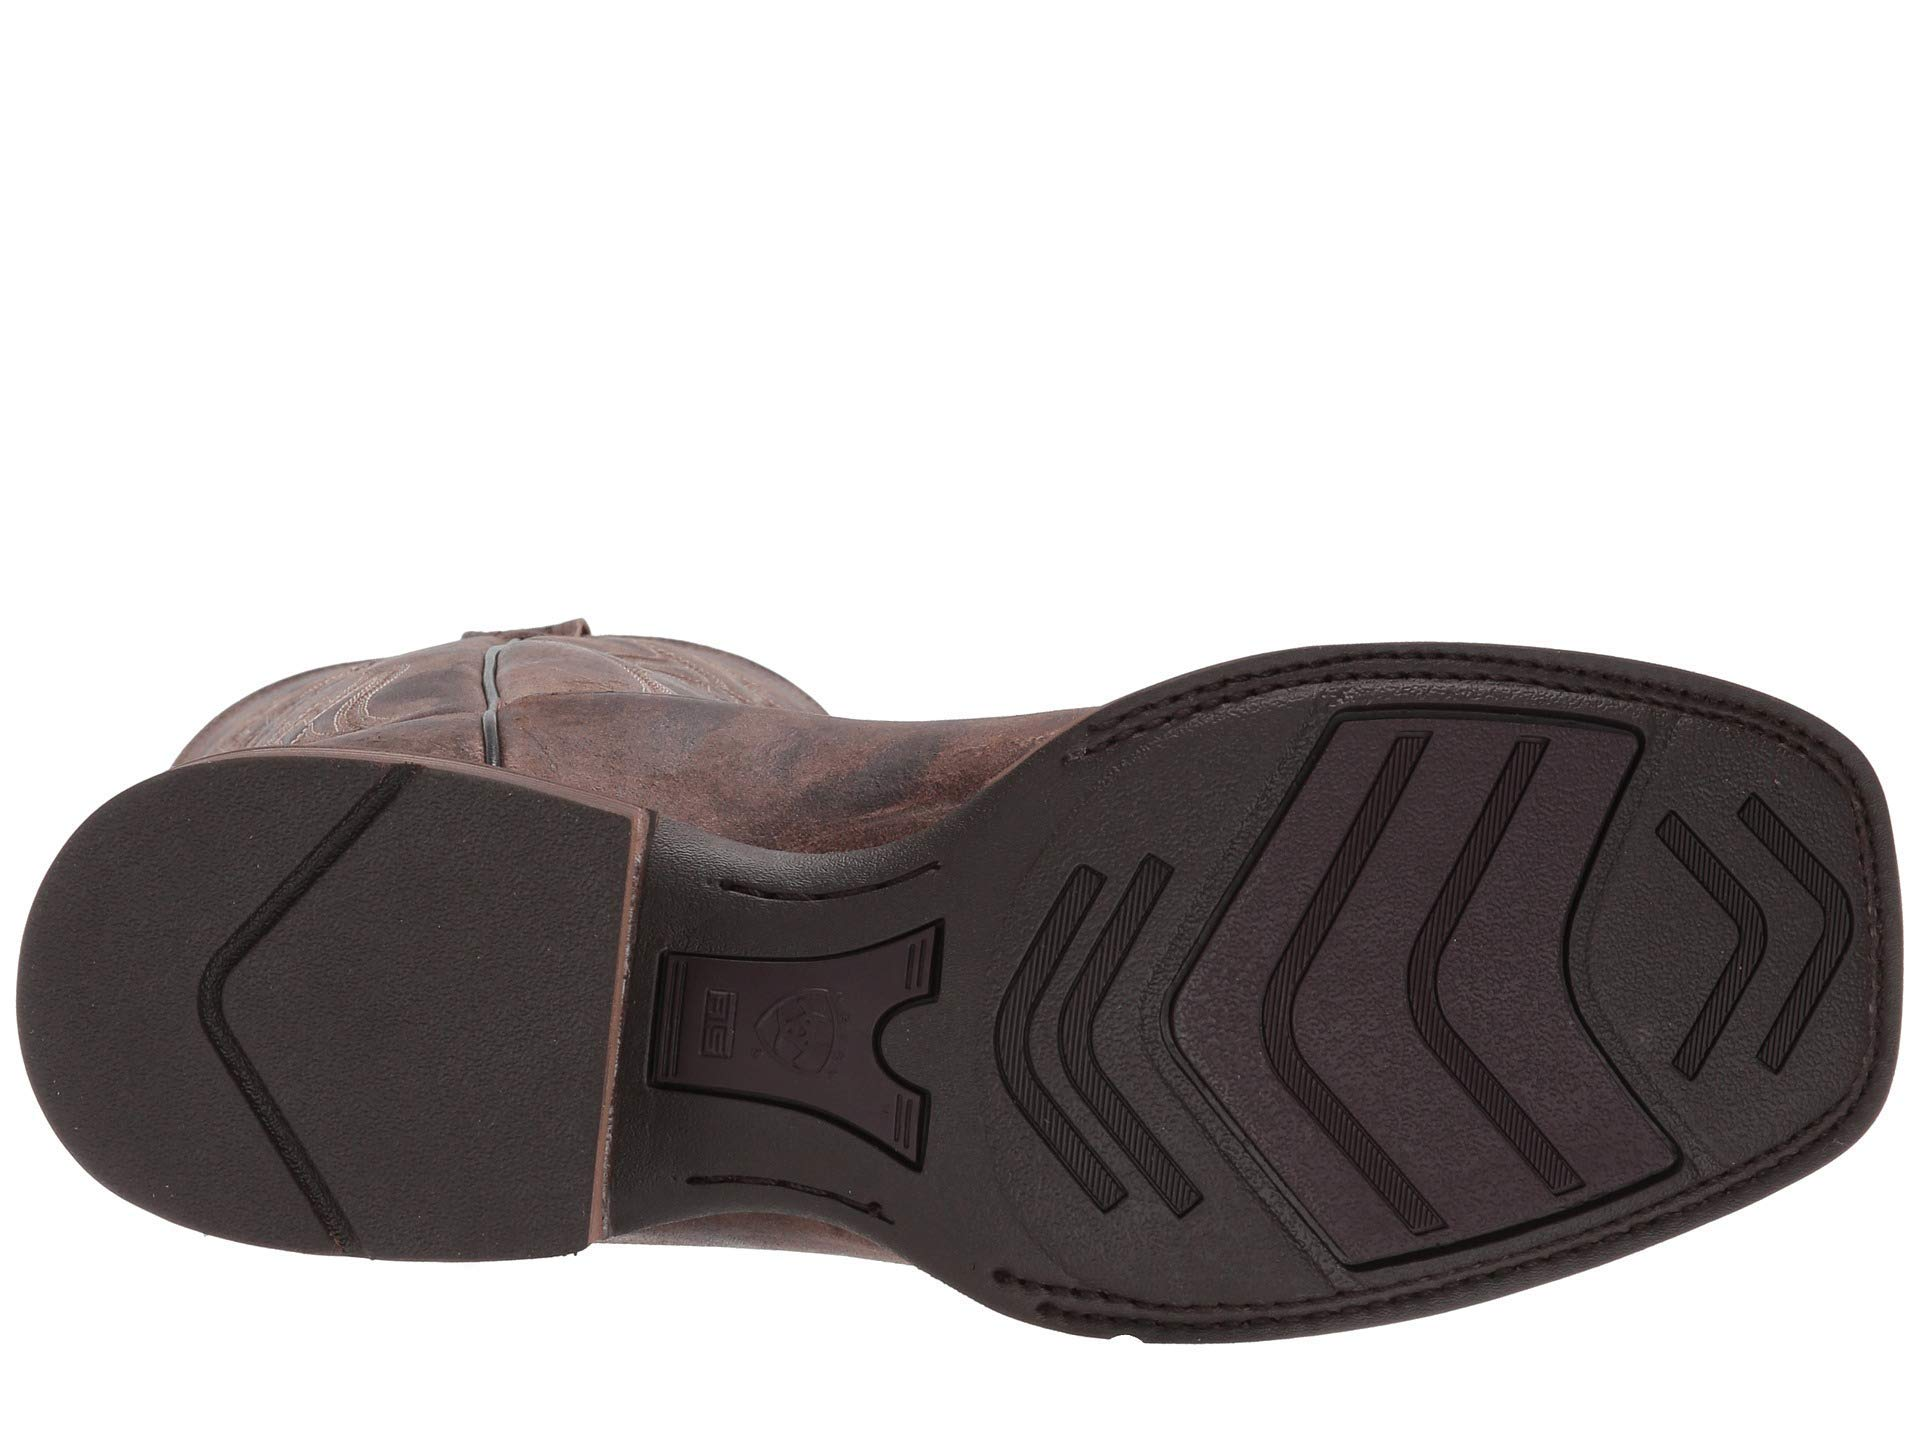chevron: (1060, 731, 1640, 1240)
